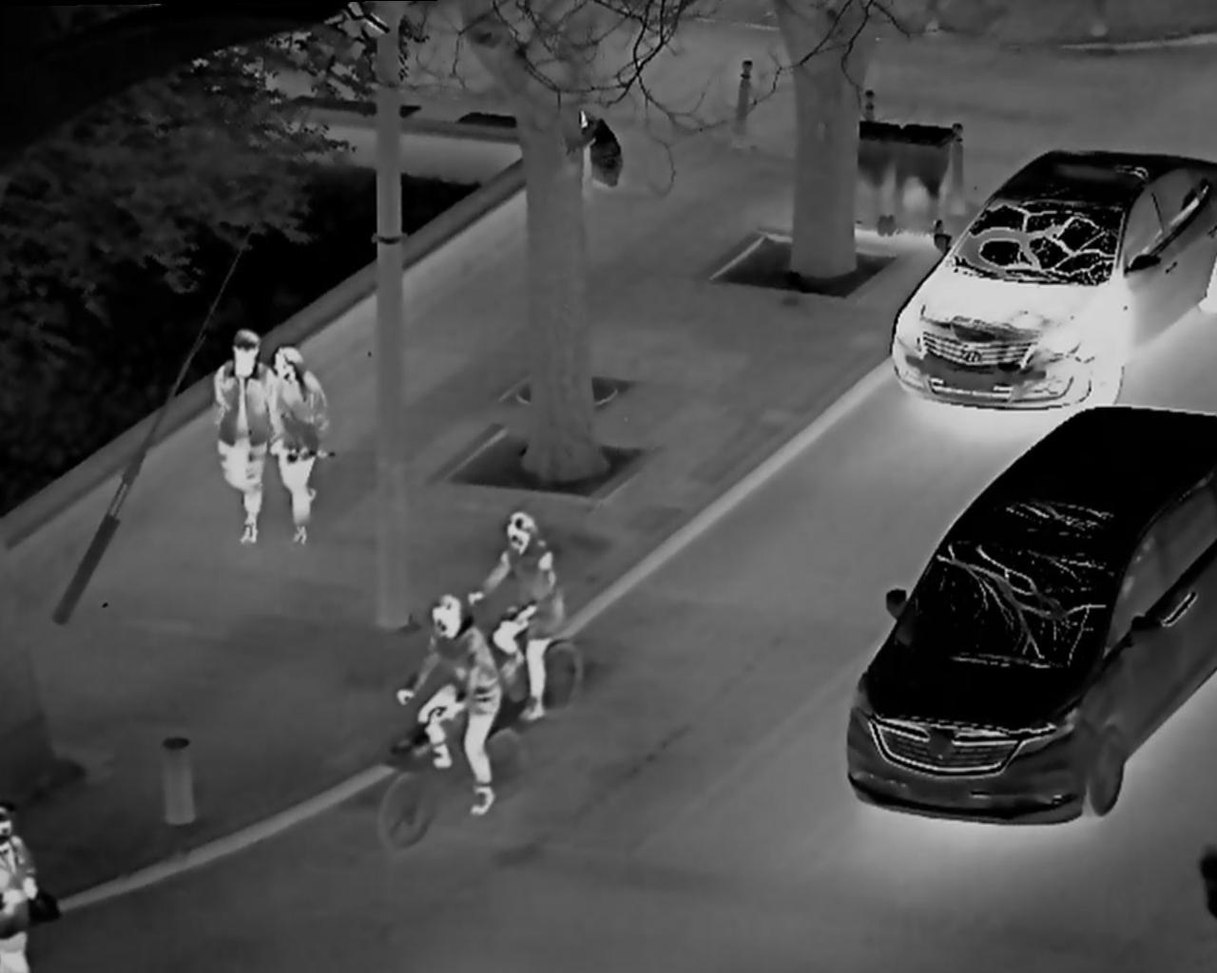person: (391, 586, 508, 830), (475, 505, 574, 728), (202, 307, 275, 560), (262, 340, 334, 552)
